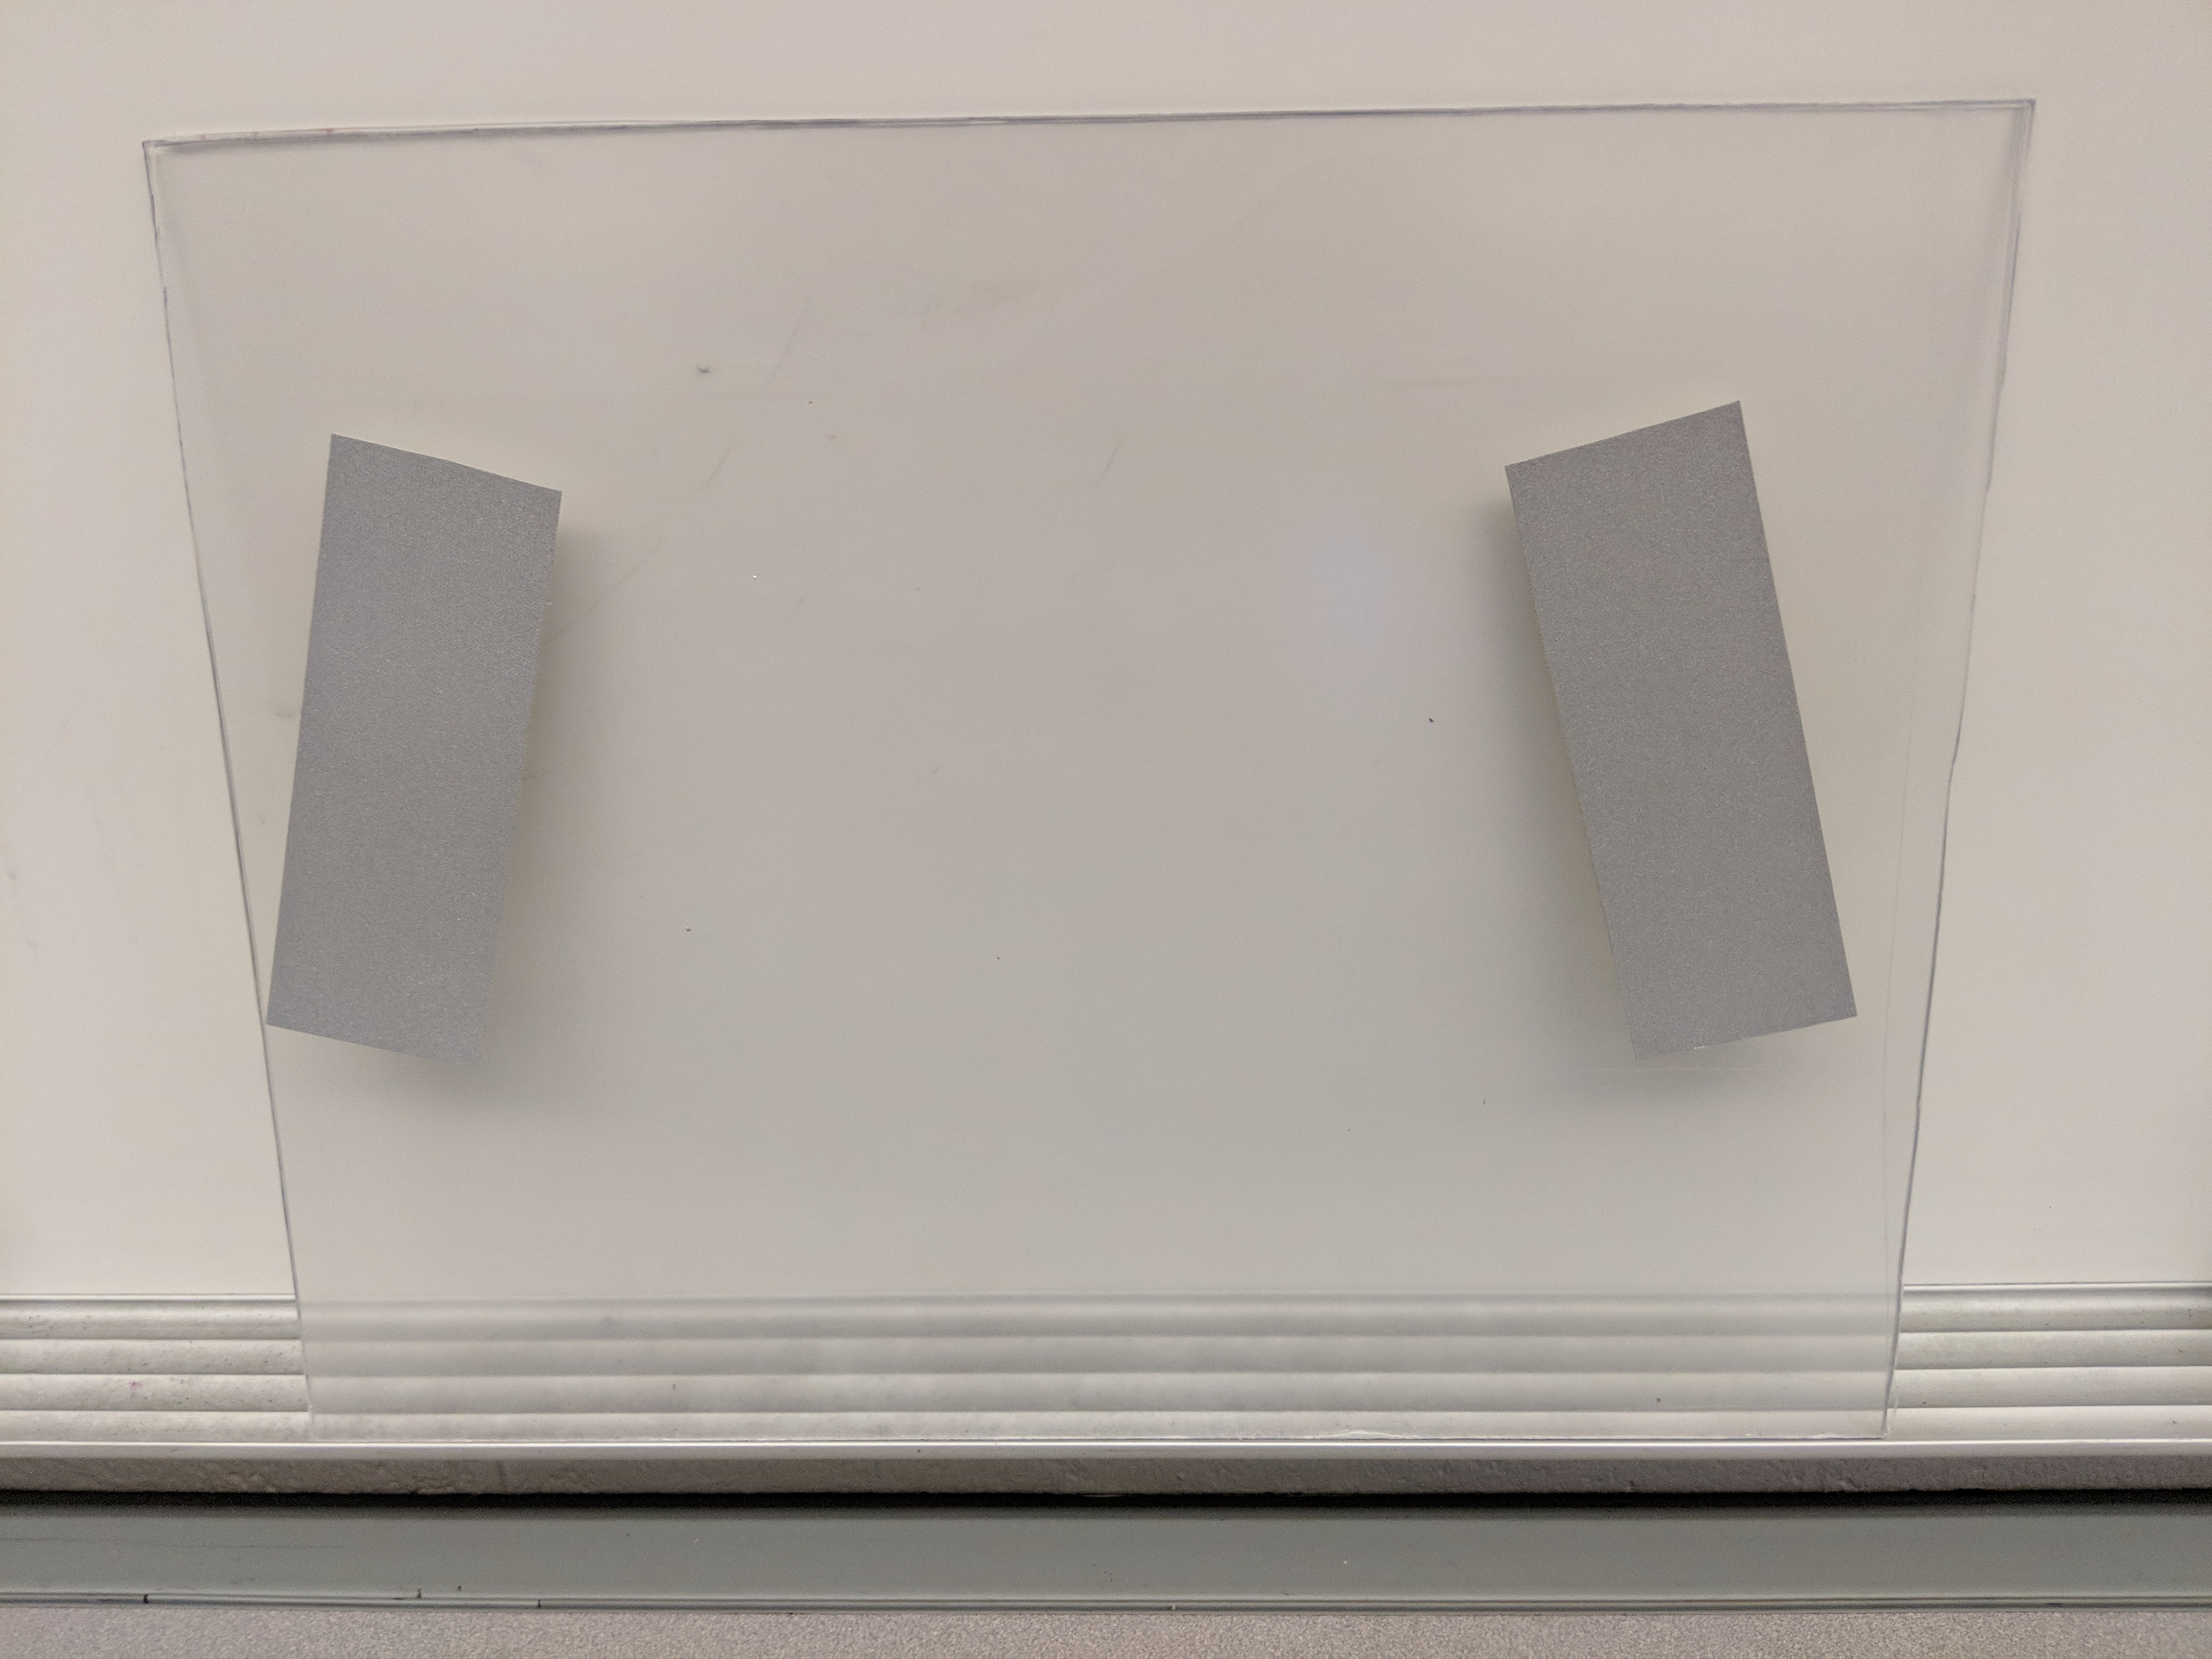vision_target: (246, 389, 1893, 1079)
